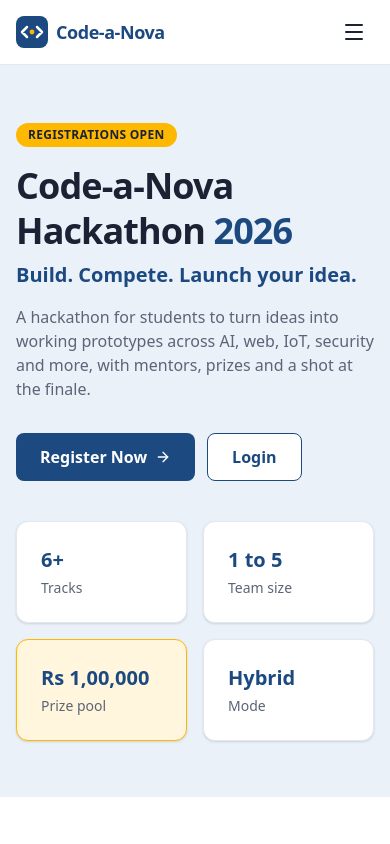
Test: public pages and navbar › hamburger menu toggles the mobile navigation
expect the navigation bar named "Main" is shown: met, box left=0, top=0, right=389, bottom=64
What coordinates should you click on to do the following:
click the button named "open menu"
I would click on:
 (354, 32)
Its box is left=334, top=12, right=374, bottom=52.
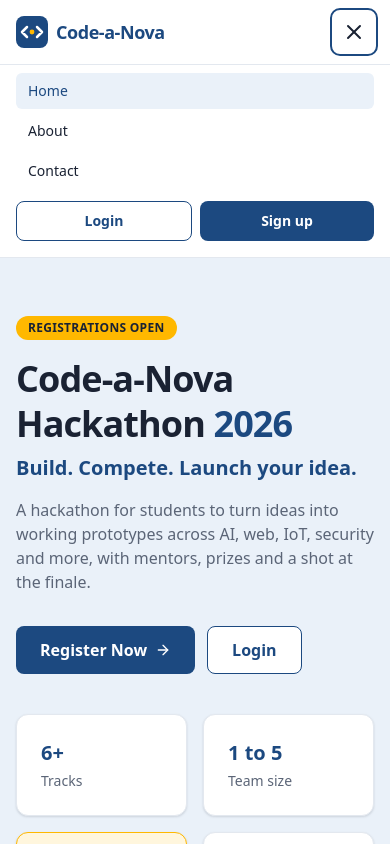
expect the button named "close menu" is expanded: met, box left=334, top=12, right=374, bottom=52
expect the element with id "mobile-menu" is shown: met, box left=0, top=64, right=389, bottom=257
